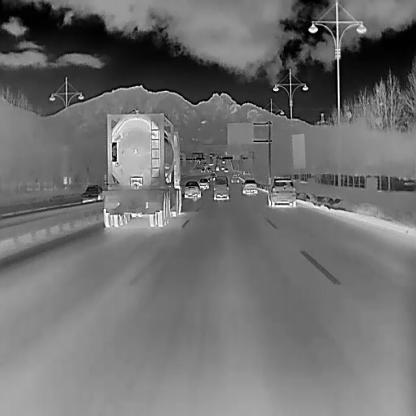car: (102, 112, 185, 228), (266, 177, 296, 207), (80, 184, 104, 202), (213, 175, 228, 200), (184, 180, 201, 199), (241, 179, 257, 193), (198, 178, 209, 188), (230, 173, 239, 183), (215, 164, 219, 172), (206, 167, 211, 172), (224, 168, 229, 173), (221, 159, 226, 164), (200, 168, 205, 172), (221, 165, 225, 169)
